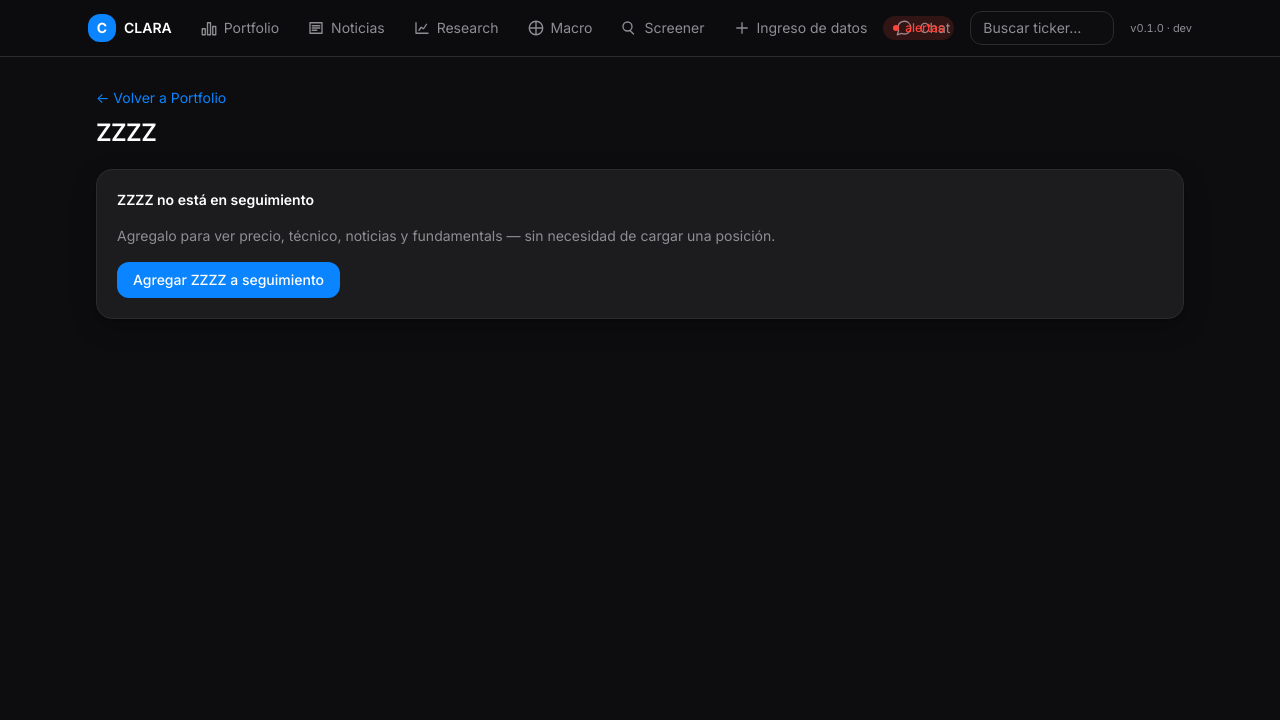
Asset detail — watchlist quick-add › offers to add an unknown ticker, then loads it after adding
Check: the heading "ZZZZ no está en seguimiento" is shown, box [117,190,314,210]
Click the button "Agregar ZZZZ a seguimiento" at (228, 280), box [117,262,340,298]
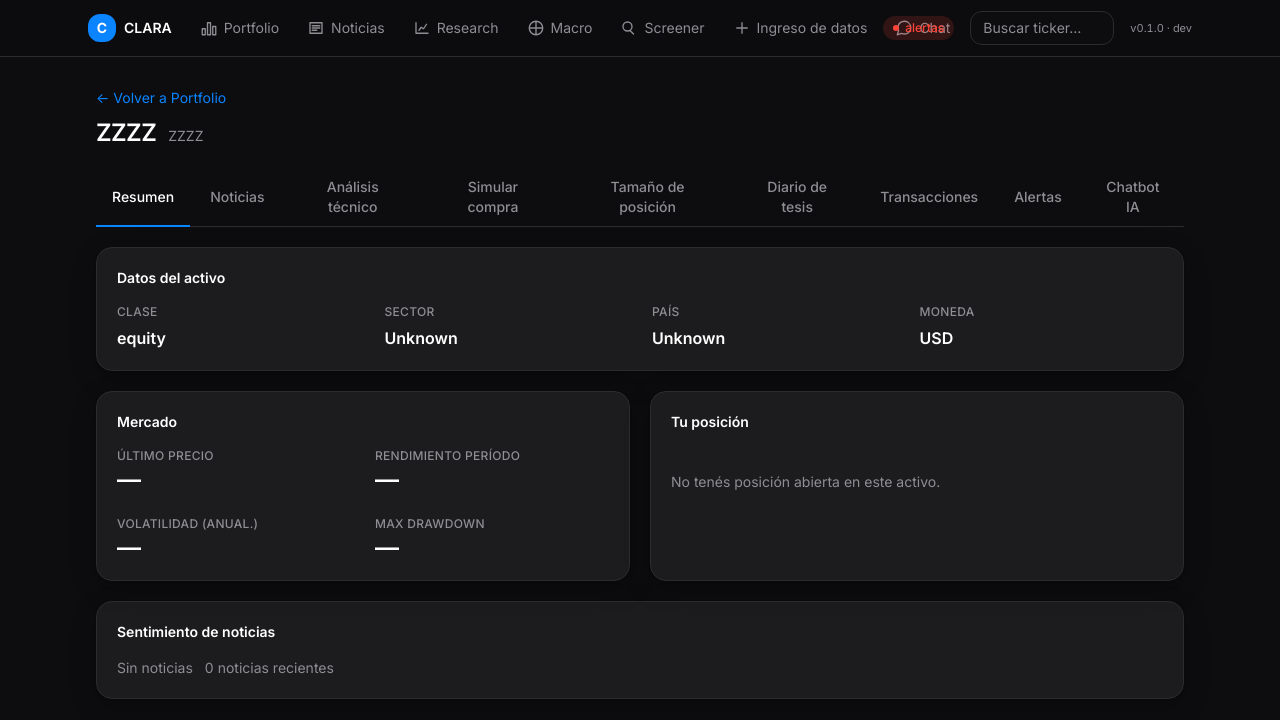
Check: the heading "Datos del activo" is shown, box [117,268,225,288]
Check: the heading "ZZZZ no está en seguimiento" is gone
